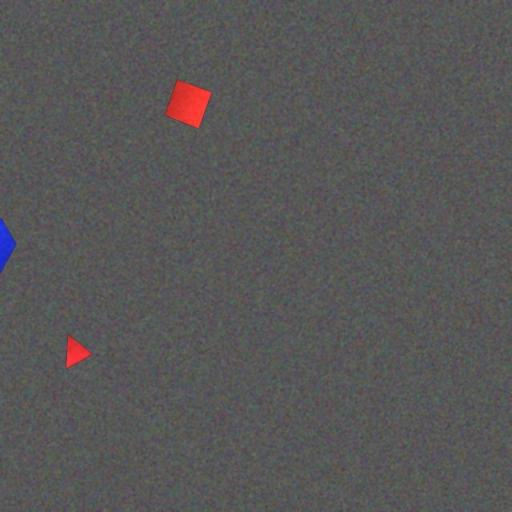RED_SQUARE: (164, 78, 213, 129)
